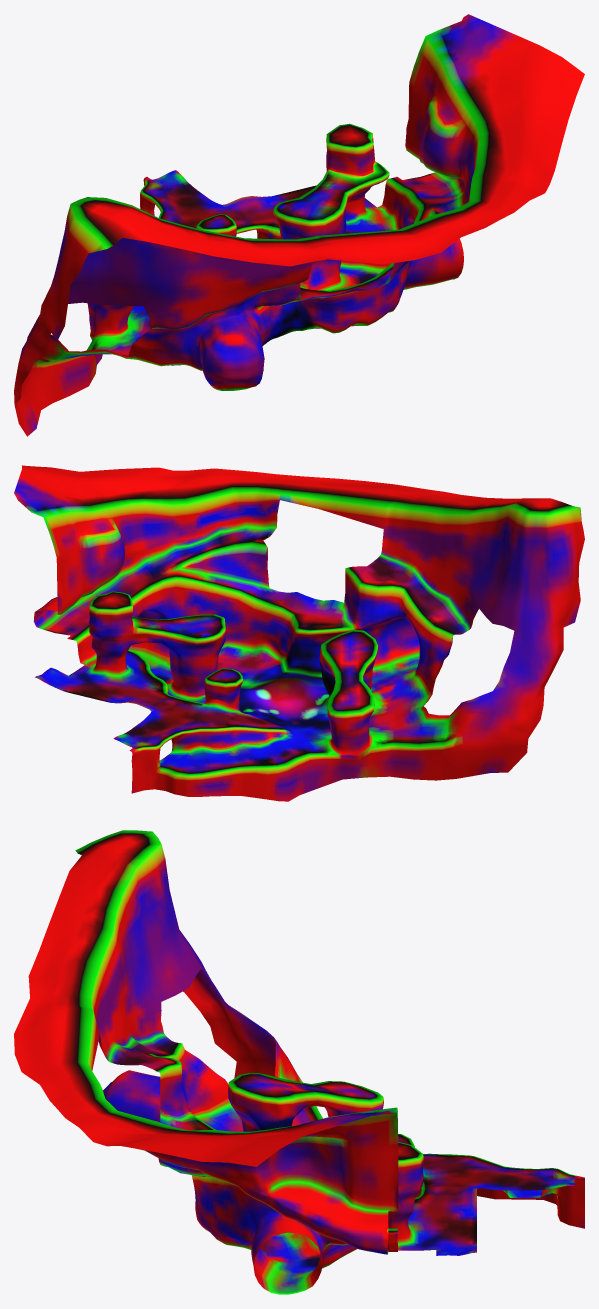
The model's file is Level_01_Terrain_D.fbx.
3 views of the same model, one above another, from view 1: azimuth 30°, elevation 25°; view 2: azimuth 150°, elevation 25°; view 3: azimuth 270°, elevation 25° (orthographic). The views are drawn at different scales.
Parts seen in each view (by area): view 1: Geometry_Level_01_Terrain_D_LOD00; view 2: Geometry_Level_01_Terrain_D_LOD00; view 3: Geometry_Level_01_Terrain_D_LOD00.
Boxes of the visible parts, x1,y1,x2,y2 form: Geometry_Level_01_Terrain_D_LOD00: [14, 14, 584, 436]; Geometry_Level_01_Terrain_D_LOD00: [14, 465, 584, 801]; Geometry_Level_01_Terrain_D_LOD00: [14, 830, 584, 1294].
Size of the model in its own units: 14551 by 6363 by 11615.
